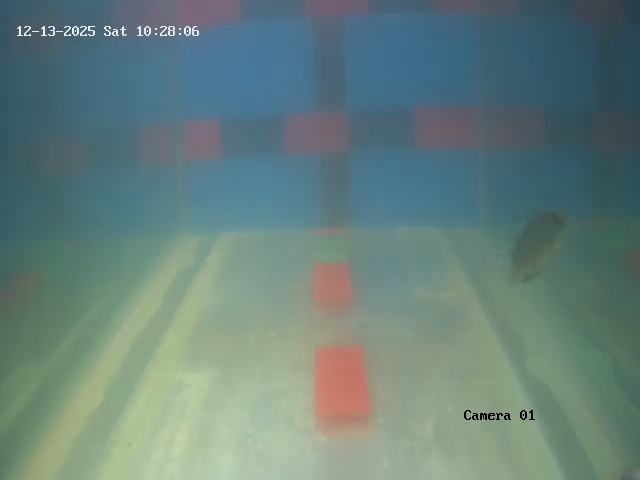fish: (502, 210, 568, 281)
